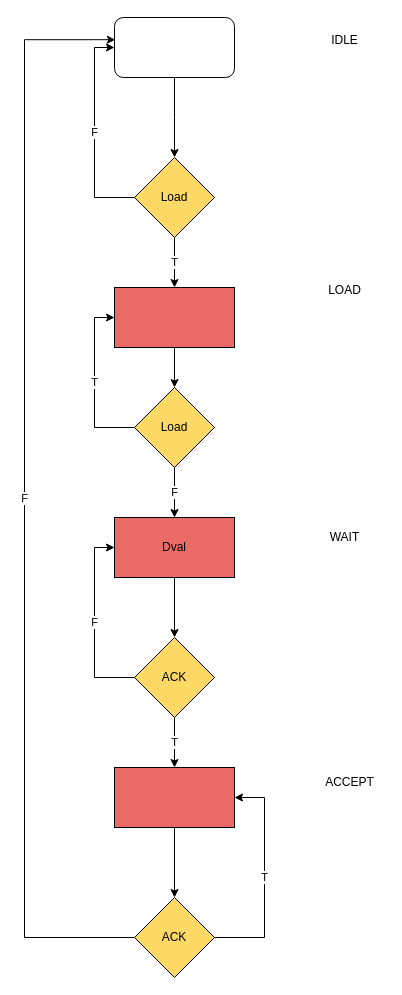
The diagram is 402 pixels wide and 995 high, and some of its shapes have lost their labels. The box of each missing label's shape, as (x1, y1, x2, y2) in pixels:
OBfree: (114, 766, 234, 828)
Wreg: (114, 286, 234, 348)
